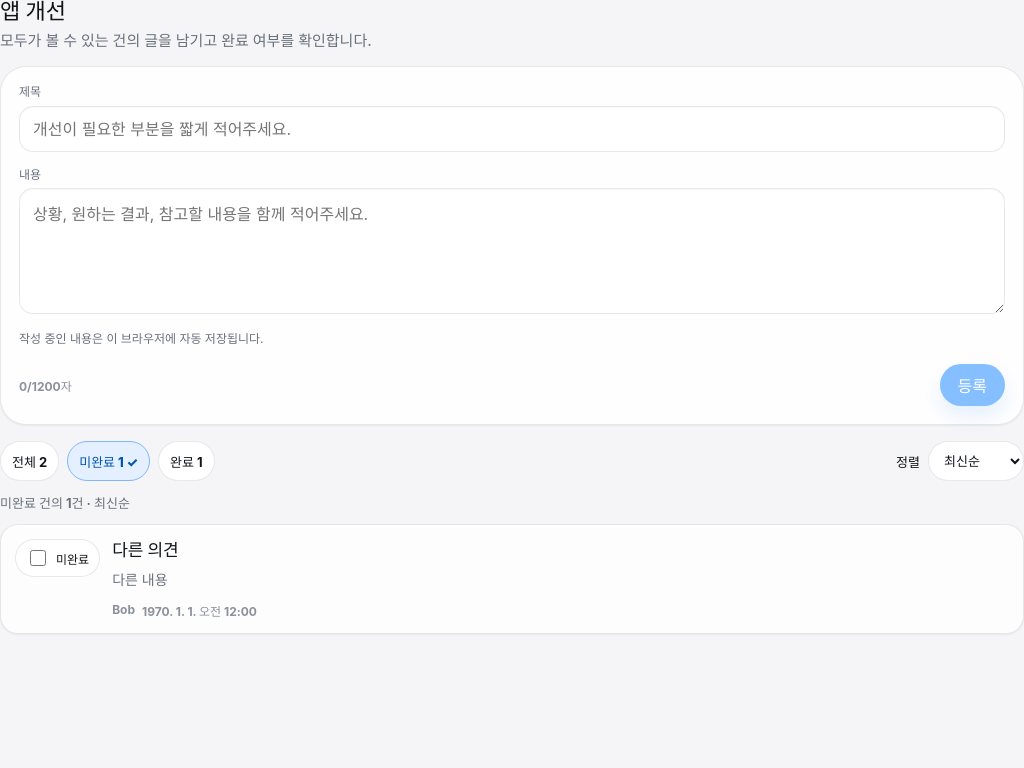
Test: visible suggestion filters › starts with pending items and exposes the selected state and result count
The width and height of the screenshot is (1024, 768).
Expected: the text "내 의견" is not shown
Expected: the heading "다른 의견" is shown, [112,540,179,560]
Click the button "완료 1" at coordinates (186, 461), box [158,441,215,481]
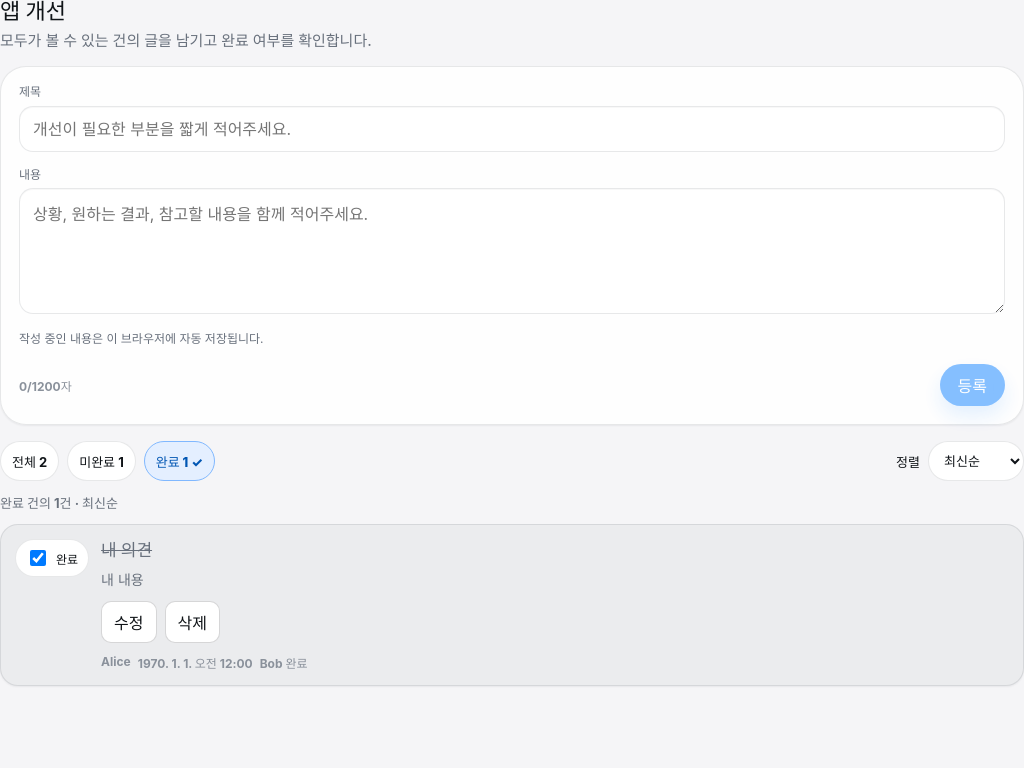
Expected: the heading "다른 의견" is gone
Expected: the heading "내 의견" is shown, [101,540,152,560]
Expected: the message reads "완료 건의 1건 · 최신순", [0,495,118,511]
Click the button "전체 2" at coordinates (30, 461), box [0,441,59,481]
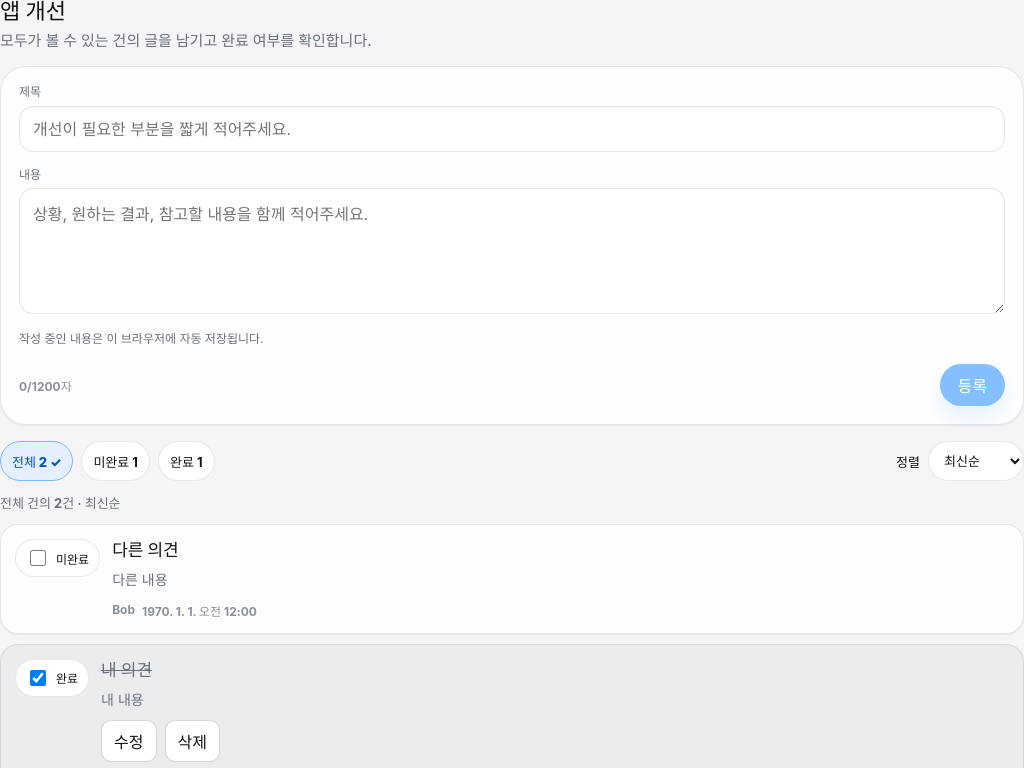
Expected: the message reads "전체 건의 2건 · 최신순", [0,495,121,511]
Expected: the headings read "다른 의견", "내 의견", in this order, [112,540,179,560]; [101,660,152,680]
Select "오래된 순" in the dropdown labelled "정렬" at coordinates (976, 461), box [928,441,1023,481]
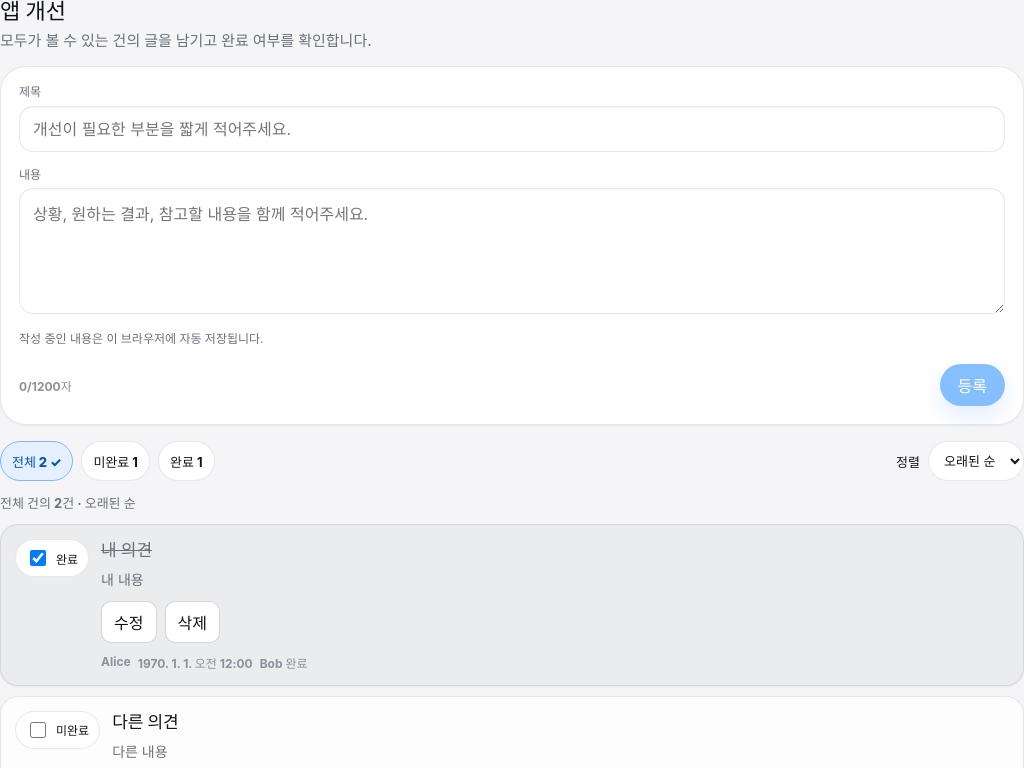
Expected: the headings read "내 의견", "다른 의견", in this order, [101,540,152,560]; [112,712,179,732]
Expected: the message reads "전체 건의 2건 · 오래된 순", [0,495,136,511]
